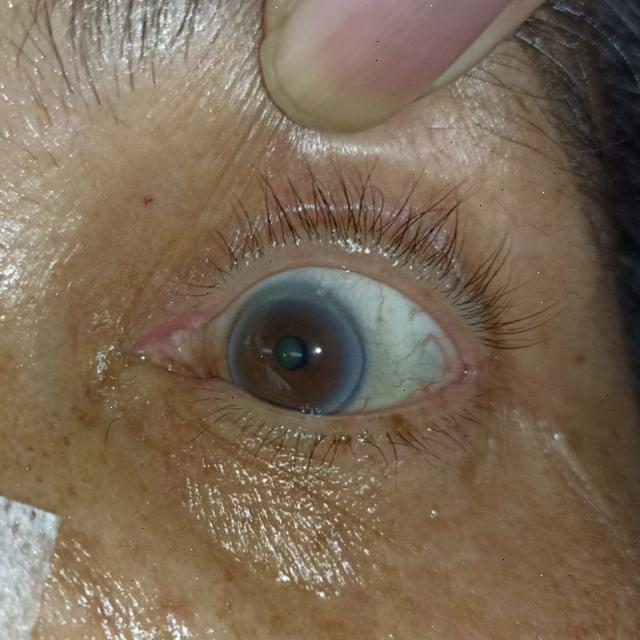Cataract: (222, 283, 362, 422)
